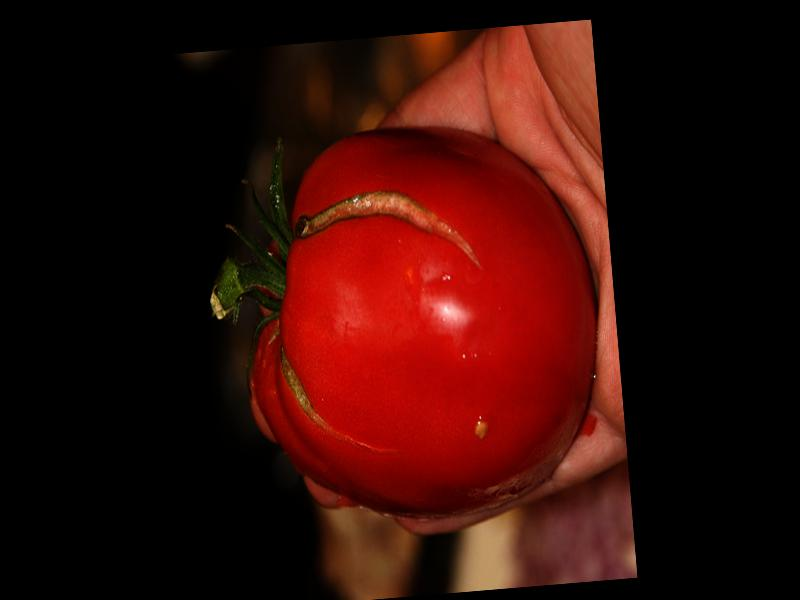Tomato: (233, 118, 612, 530)
